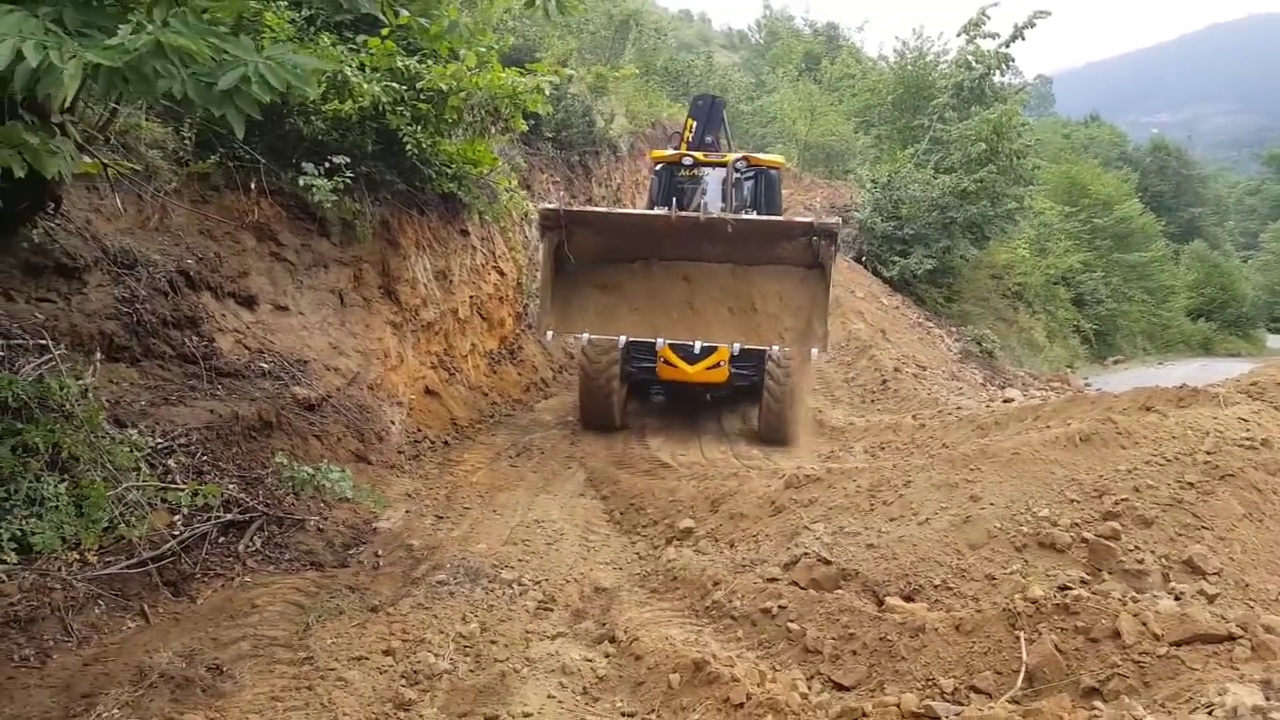wheel loader: (531, 92, 844, 452)
